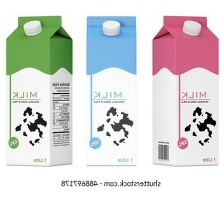carton: (1, 11, 76, 171), (148, 11, 222, 169), (79, 13, 139, 169)
